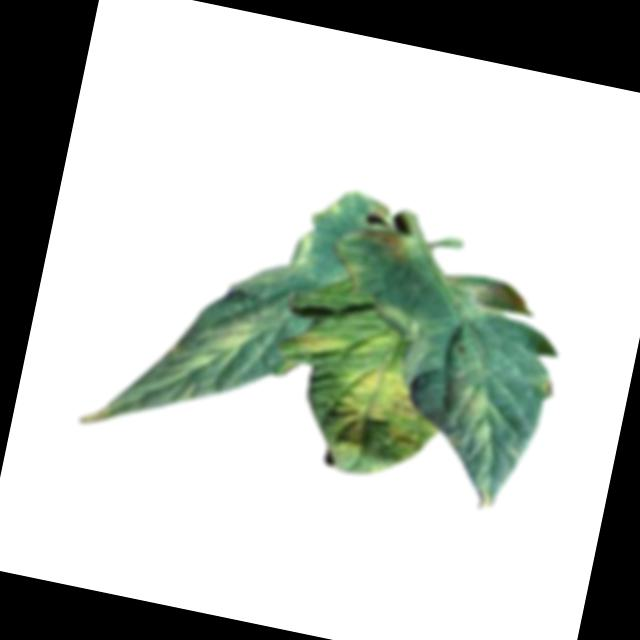Leaf_Mold: (323, 355, 445, 476), (181, 303, 260, 385), (433, 375, 509, 460), (453, 275, 531, 331), (356, 224, 415, 263), (294, 323, 350, 364)
